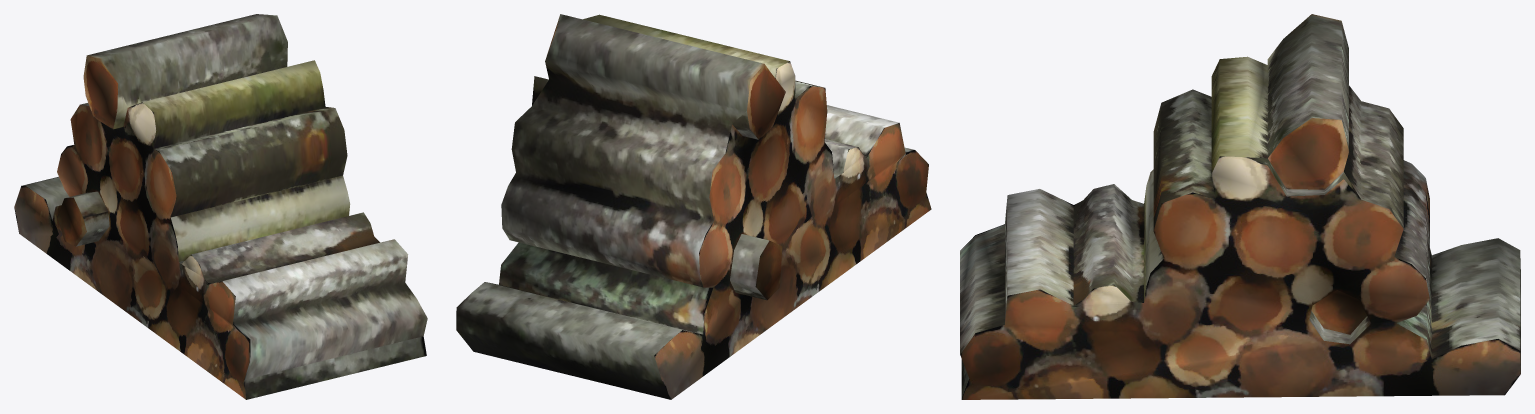
The model's file is woodpile.glb.
3 renders of one model, left to right at view 1: azimuth 30°, elevation 25°; view 2: azimuth 150°, elevation 25°; view 3: azimuth 270°, elevation 25°, orthographic. The views are drawn at different scales.
Parts seen in each view (by area): view 1: Woodpile.jpg__; view 2: Woodpile.jpg__; view 3: Woodpile.jpg__.
Boxes of the visible parts, x1,y1,x2,y2 form: Woodpile.jpg__: [14, 14, 427, 399]; Woodpile.jpg__: [456, 14, 931, 399]; Woodpile.jpg__: [960, 14, 1520, 399].
Bounding box in the file's own units: 2.26 × 2.44 × 4.43.
1 material, 1 textured.
